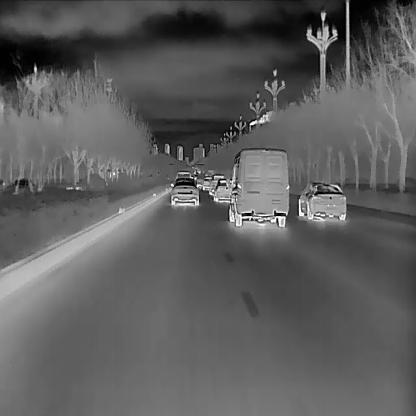car: (228, 147, 288, 227), (297, 181, 346, 221), (169, 178, 198, 206), (214, 176, 236, 202), (207, 173, 223, 193), (173, 171, 193, 186), (202, 176, 211, 190)
